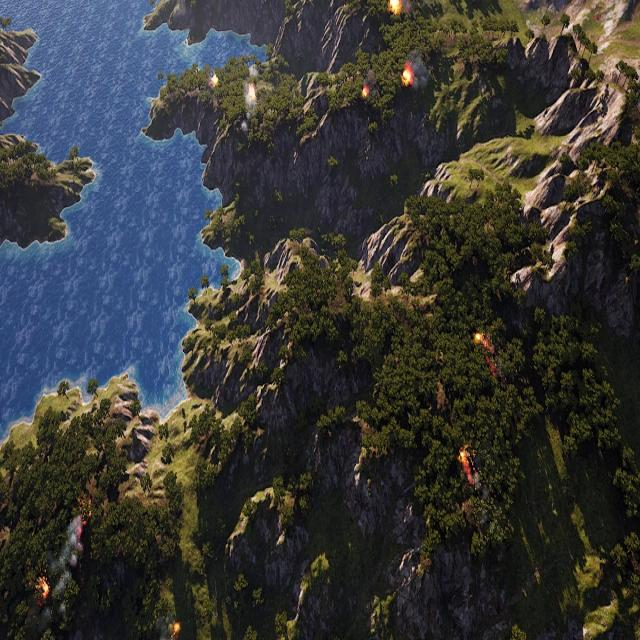fire: (474, 332, 495, 372), (458, 443, 476, 486), (37, 577, 50, 600), (402, 61, 413, 87), (80, 512, 90, 536), (247, 85, 257, 102), (389, 0, 401, 12), (174, 622, 181, 636), (211, 75, 218, 86), (362, 88, 369, 98)
smoke: (49, 514, 85, 594), (238, 62, 256, 133), (408, 53, 430, 92), (156, 615, 172, 640), (362, 71, 376, 94)
